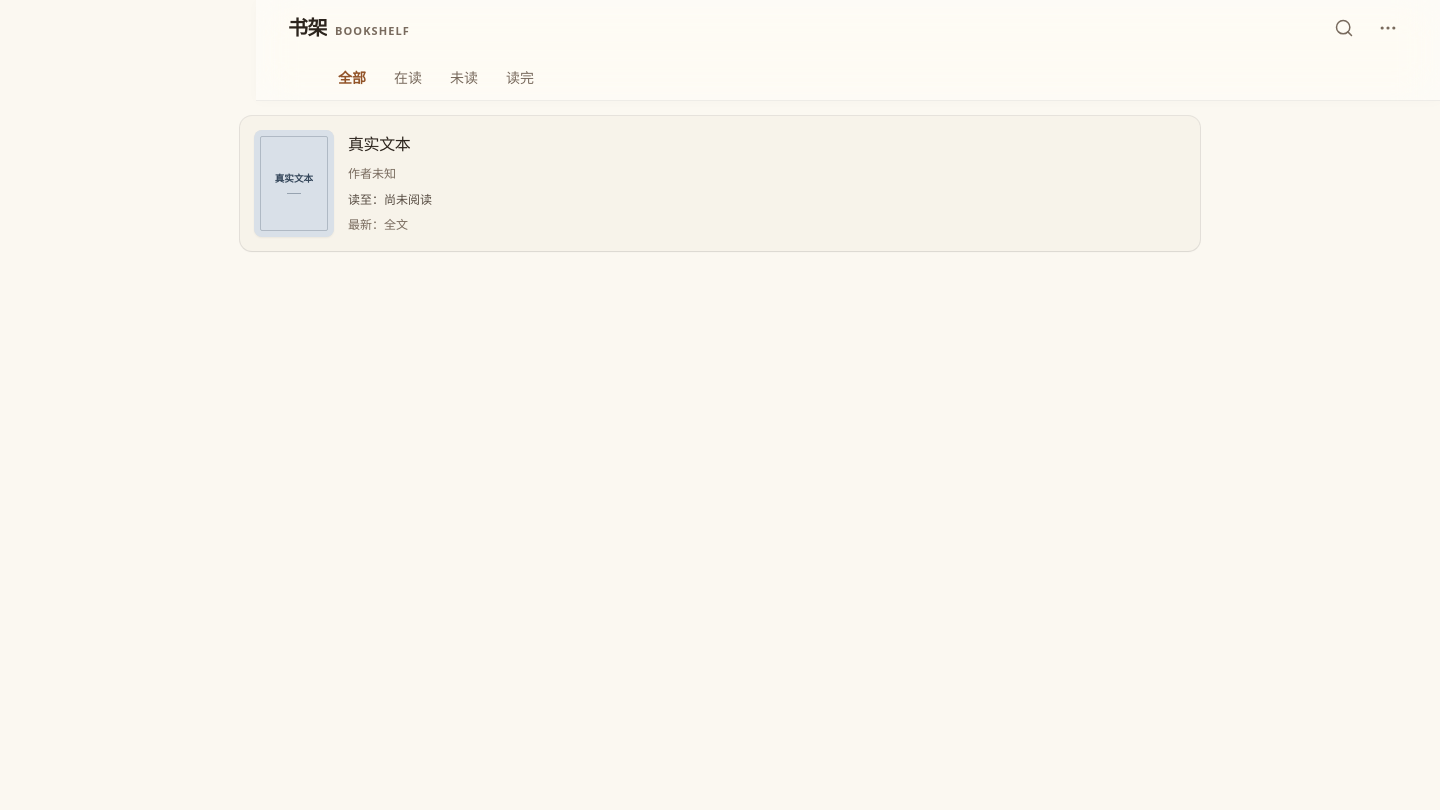
Test: real library presentation › opens book information with the introduction on a long press or right-click
Right-click the button with test id "library-book-real-book": {"x": 294, "y": 183} [240,116,1200,251]
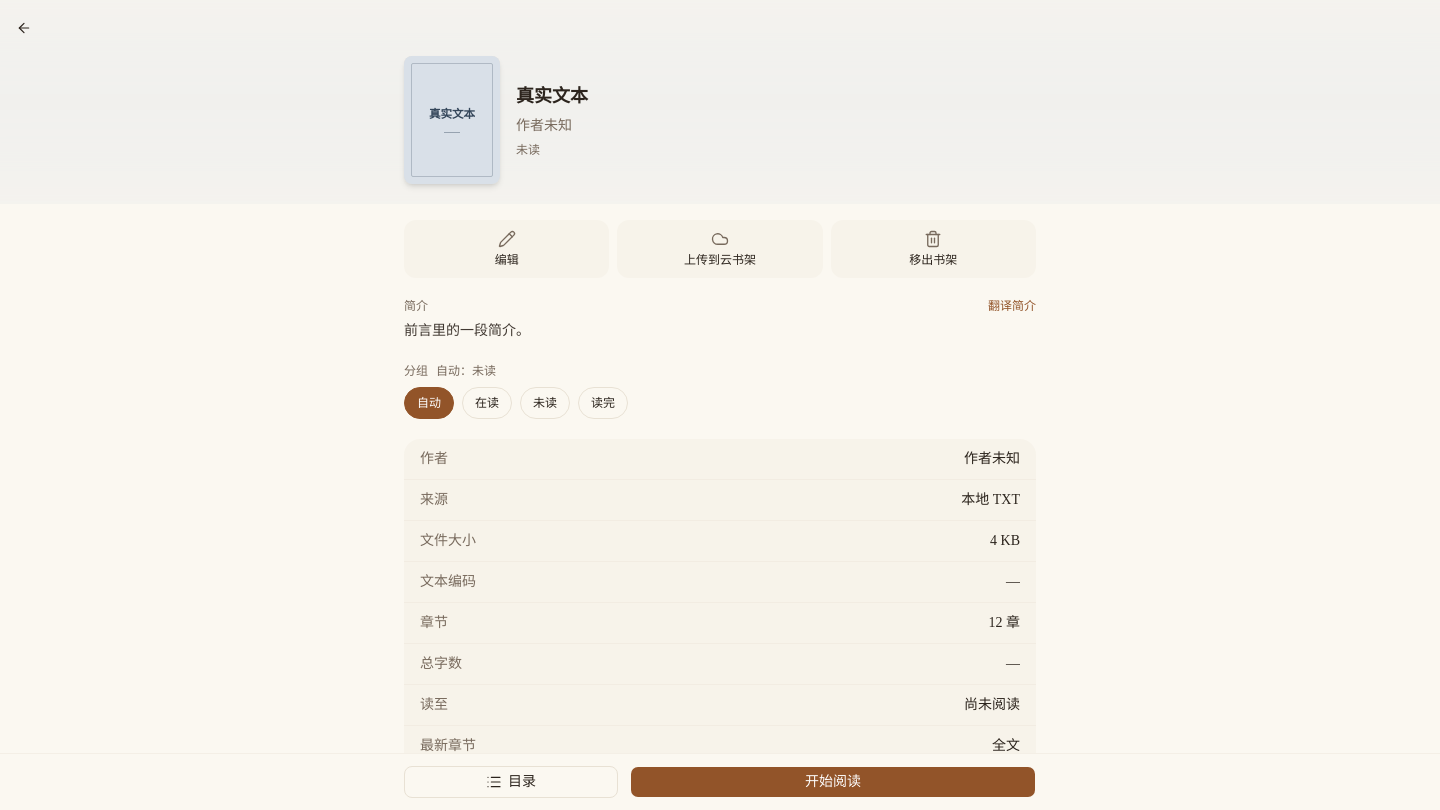
Expected: the text "前言里的一段简介。" is shown, [404,323,530,338]
Expected: the text "12 章" is shown, [988,615,1020,630]
Expected: the text "4 KB" is shown, [990,533,1020,548]
